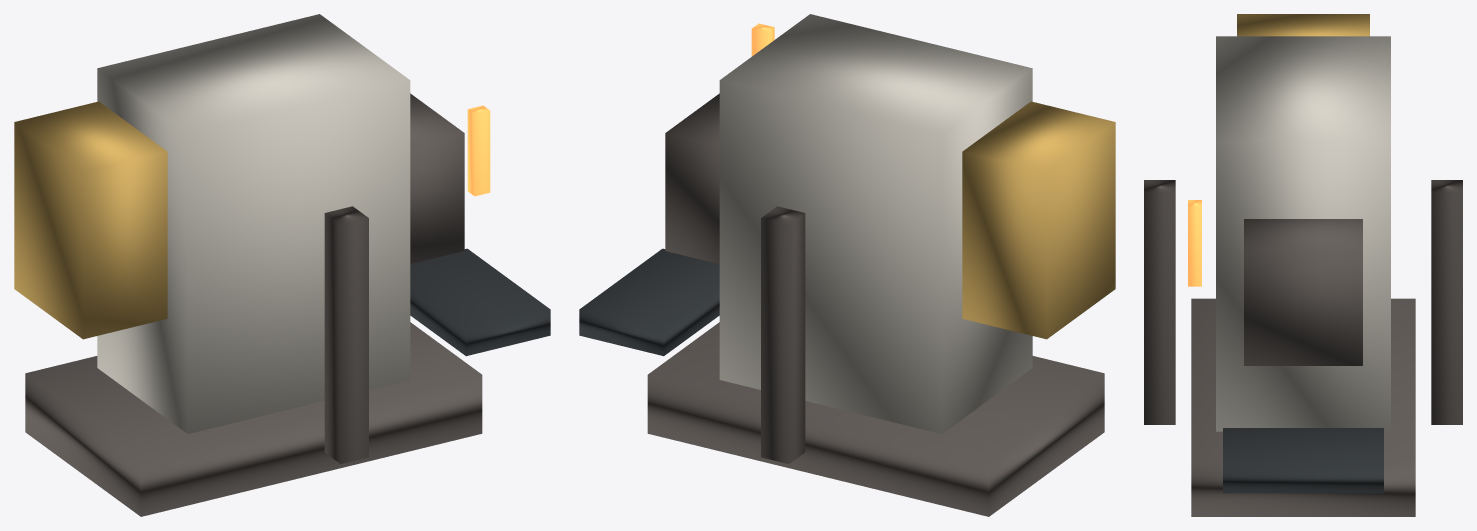
Rendered from solar-yard-feedstock-press-lod1.glb.
The picture shows the model from 3 angles, left to right: view 1: azimuth 30°, elevation 25°; view 2: azimuth 150°, elevation 25°; view 3: azimuth 270°, elevation 25°; orthographic projection. The views are drawn at different scales.
Visible parts, largest first — view 1: solar-yard-feedstock-press-body, solar-yard-feedstock-press-base, solar-yard-feedstock-press-hopper, solar-yard-feedstock-press-brace-right, solar-yard-feedstock-press-collection-tray, solar-yard-feedstock-press-ram, solar-yard-feedstock-press-status; view 2: solar-yard-feedstock-press-body, solar-yard-feedstock-press-base, solar-yard-feedstock-press-hopper, solar-yard-feedstock-press-brace-left, solar-yard-feedstock-press-collection-tray, solar-yard-feedstock-press-ram; view 3: solar-yard-feedstock-press-body, solar-yard-feedstock-press-ram, solar-yard-feedstock-press-base, solar-yard-feedstock-press-collection-tray, solar-yard-feedstock-press-brace-left, solar-yard-feedstock-press-brace-right, solar-yard-feedstock-press-hopper, solar-yard-feedstock-press-status.
Part boxes in pixels (<box>): solar-yard-feedstock-press-body: <box>97,14,410,433</box>; solar-yard-feedstock-press-base: <box>25,322,482,516</box>; solar-yard-feedstock-press-hopper: <box>14,101,167,339</box>; solar-yard-feedstock-press-brace-right: <box>324,206,368,463</box>; solar-yard-feedstock-press-collection-tray: <box>410,248,550,356</box>; solar-yard-feedstock-press-ram: <box>410,93,464,263</box>; solar-yard-feedstock-press-status: <box>467,105,490,196</box>; solar-yard-feedstock-press-body: <box>719,14,1032,433</box>; solar-yard-feedstock-press-base: <box>647,322,1104,516</box>; solar-yard-feedstock-press-hopper: <box>962,101,1115,339</box>; solar-yard-feedstock-press-brace-left: <box>761,206,805,463</box>; solar-yard-feedstock-press-collection-tray: <box>579,248,719,356</box>; solar-yard-feedstock-press-ram: <box>665,93,719,263</box>; solar-yard-feedstock-press-body: <box>1216,36,1390,431</box>; solar-yard-feedstock-press-ram: <box>1244,219,1362,365</box>; solar-yard-feedstock-press-base: <box>1191,298,1415,516</box>; solar-yard-feedstock-press-collection-tray: <box>1223,428,1383,493</box>; solar-yard-feedstock-press-brace-left: <box>1431,180,1462,424</box>; solar-yard-feedstock-press-brace-right: <box>1144,180,1175,424</box>; solar-yard-feedstock-press-hopper: <box>1237,14,1369,36</box>; solar-yard-feedstock-press-status: <box>1188,200,1201,286</box>.
Bounding box in the file's own units: 2.94 × 2.19 × 1.82.
